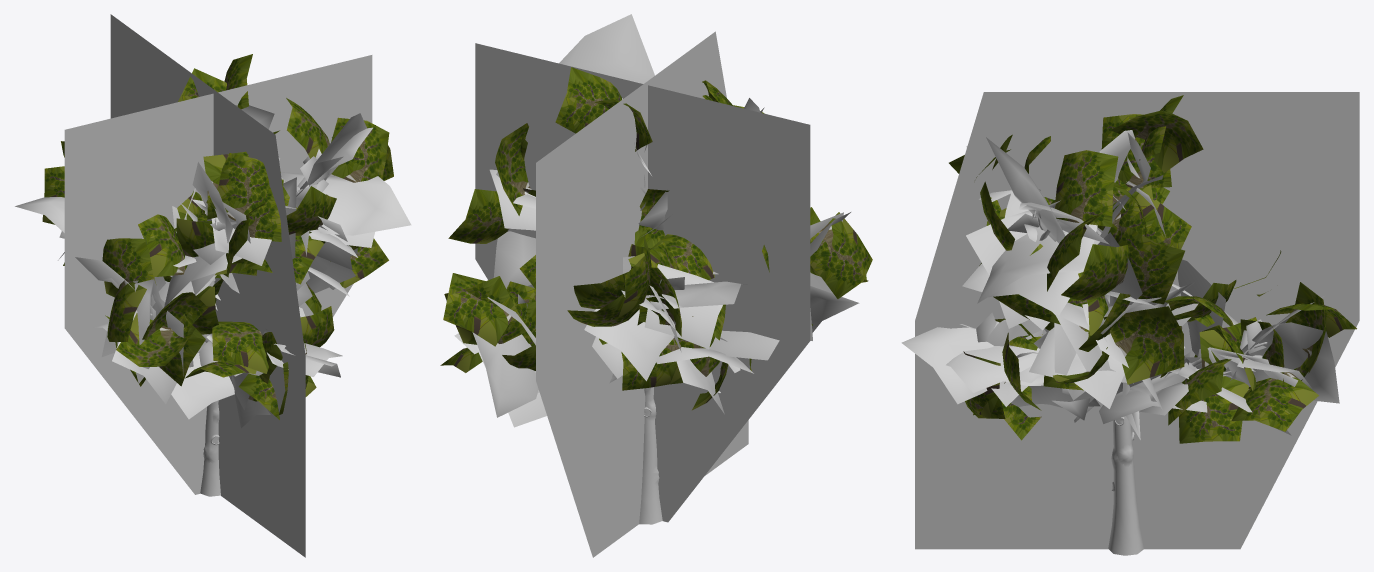
File: Avocado2.fbx
3 renders of one model, left to right at view 1: azimuth 30°, elevation 25°; view 2: azimuth 150°, elevation 25°; view 3: azimuth 270°, elevation 25°, orthographic. The views are drawn at different scales.
Parts seen in each view (by area): view 1: Billboard, LOD0; view 2: Billboard, LOD0; view 3: Billboard, LOD0.
Boxes of the visible parts, x1=… form: Billboard: x1=64, y1=14, x2=372, y2=557; LOD0: x1=15, y1=54, x2=411, y2=496; Billboard: x1=475, y1=31, x2=810, y2=557; LOD0: x1=440, y1=14, x2=872, y2=524; Billboard: x1=915, y1=92, x2=1359, y2=549; LOD0: x1=901, y1=95, x2=1356, y2=555.
Size of what is drawn, in the model's own units: 384 by 489 by 433.
